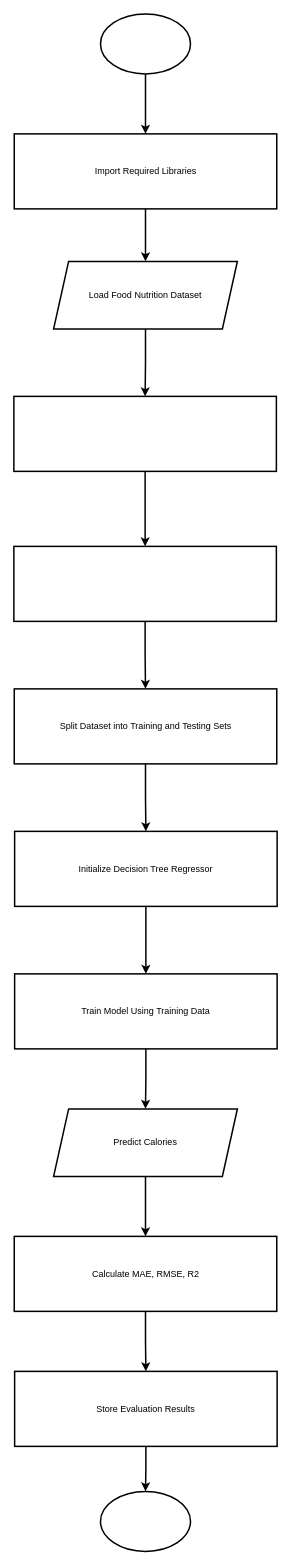
This 290x1565 diagram has some shape labels left out. The box of each missing label's shape, as (x1, y1, x2, y2) in pixels:
End: (99, 1490, 191, 1552)
Handle Missing Values: (13, 545, 277, 622)
Select Input Features and Target Variable: (13, 395, 277, 472)
Start: (99, 13, 191, 74)
